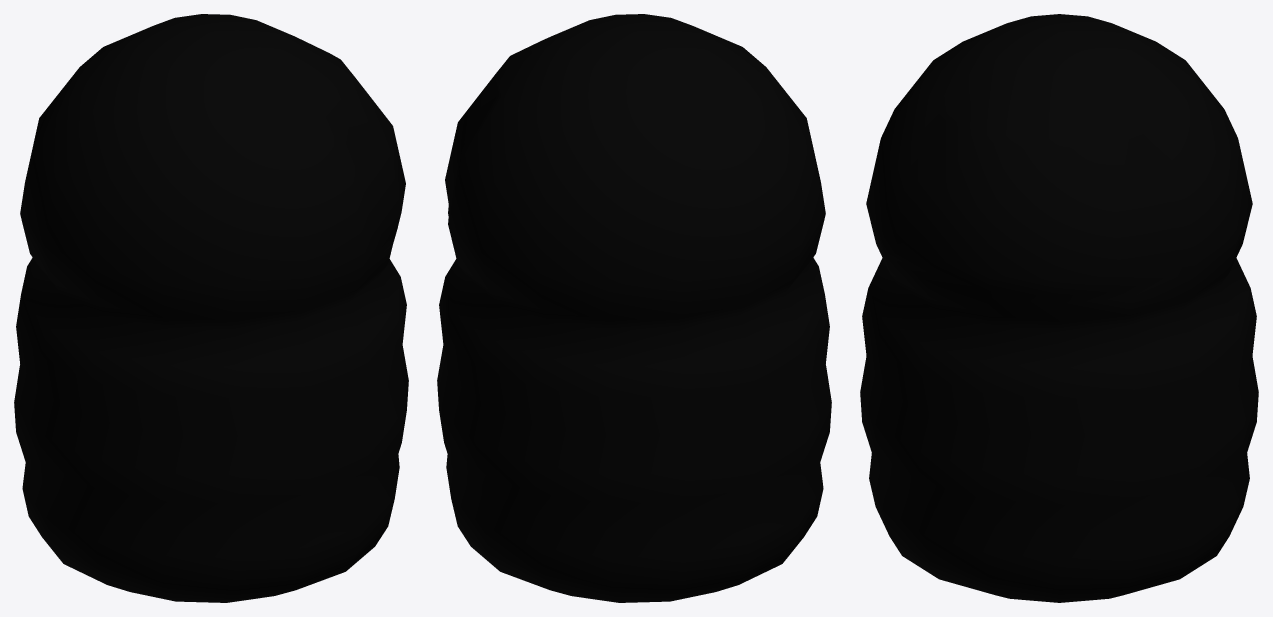
File: Player.fbx
The picture shows the model from 3 angles, left to right: view 1: azimuth 30°, elevation 25°; view 2: azimuth 150°, elevation 25°; view 3: azimuth 270°, elevation 25°; orthographic projection.
Visible parts, largest first — view 1: Player; view 2: Player; view 3: Player.
Part boxes in pixels (x1,y1,x2,y2): Player: (14, 14, 408, 602); Player: (437, 14, 831, 602); Player: (860, 14, 1258, 602).
Size of the model in its own units: 164 by 234 by 164.
